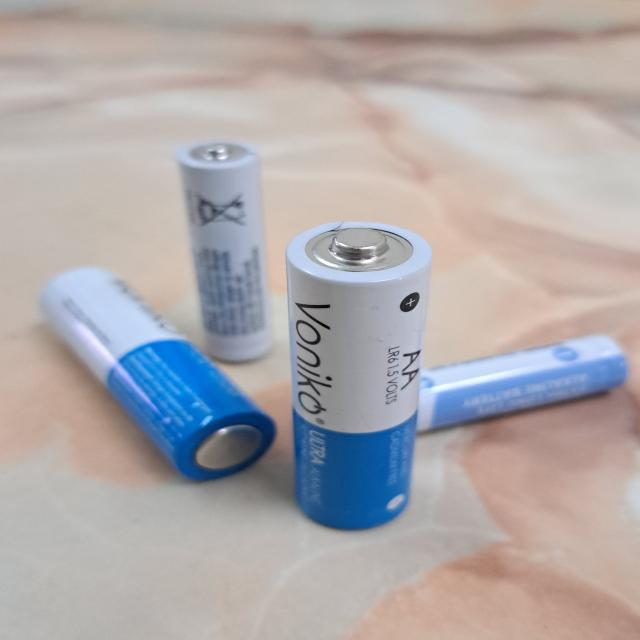battery: (39, 264, 276, 485), (286, 222, 432, 530), (174, 138, 283, 362), (418, 333, 626, 430)
